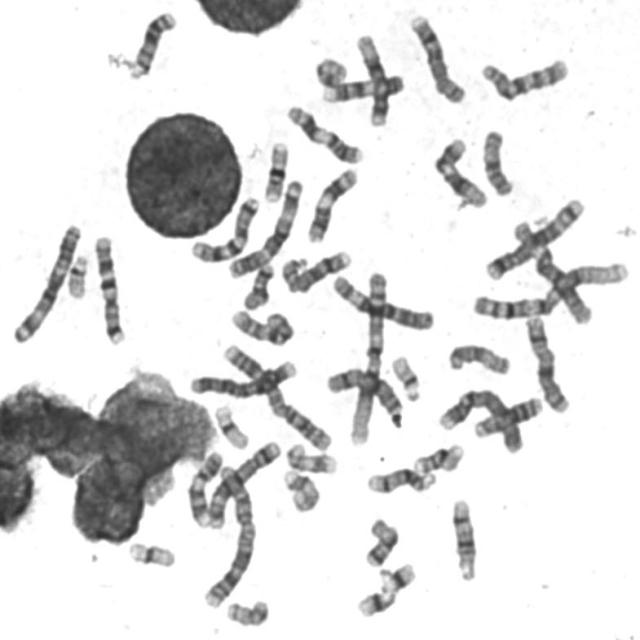A1: (467, 255, 633, 322), (343, 264, 392, 448)
A2: (219, 336, 336, 452), (199, 458, 258, 610)
A3: (8, 217, 85, 345), (223, 174, 306, 279)
B4: (434, 382, 528, 454), (186, 353, 301, 400)
B5: (481, 192, 588, 282), (202, 434, 284, 530)
C10: (477, 51, 572, 103), (226, 303, 298, 347)
C11: (282, 99, 366, 166), (304, 163, 361, 244)
C12: (428, 133, 492, 210), (352, 28, 392, 128)
C6: (510, 213, 597, 326), (328, 269, 438, 332)
C7: (186, 190, 262, 265), (90, 229, 128, 346)
C8: (405, 8, 469, 105), (277, 244, 354, 295)
C9: (184, 446, 226, 529), (318, 68, 408, 105)
D13: (125, 4, 179, 81), (470, 392, 546, 441)
D14: (448, 493, 480, 582), (362, 462, 439, 496)
D15: (478, 124, 516, 198), (444, 338, 514, 378)
E16: (258, 136, 292, 203), (410, 439, 466, 475)
E17: (282, 438, 340, 476), (280, 464, 322, 514)
E18: (361, 513, 402, 569), (239, 259, 277, 311)
F19: (210, 398, 253, 451), (124, 536, 178, 570)
F20: (222, 594, 272, 628), (311, 52, 350, 89)
G21: (352, 583, 400, 620), (376, 558, 418, 595)
G22: (387, 348, 425, 404), (63, 248, 91, 300)
X: (322, 362, 407, 430), (521, 310, 573, 415)
